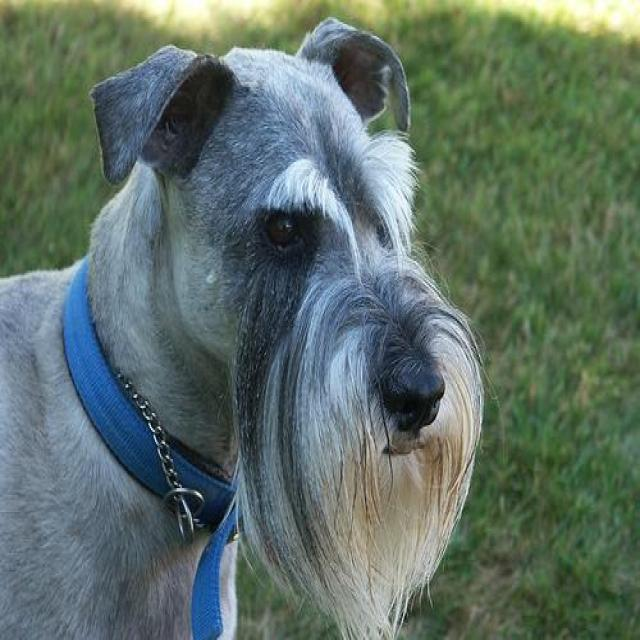standard_schnauzer: (0, 14, 484, 636)
